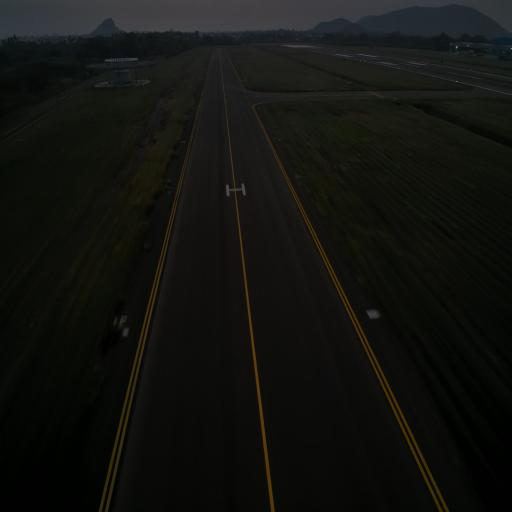on: (294, 168, 298, 178), (166, 177, 170, 186)
